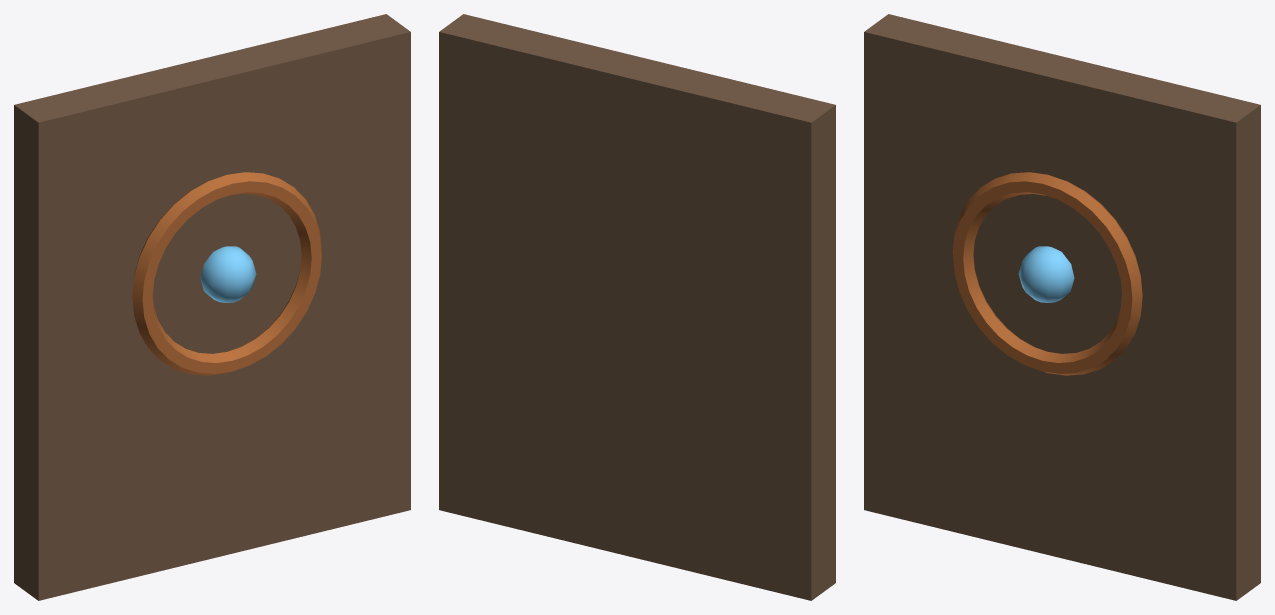
The model's file is lager_tor.obj.
3 views of the same model, side by side, from view 1: azimuth 30°, elevation 25°; view 2: azimuth 150°, elevation 25°; view 3: azimuth 330°, elevation 25° (orthographic).
Parts seen in each view (by area): view 1: Lager_Tor; view 2: Lager_Tor; view 3: Lager_Tor.
Part boxes in pixels (box(x1,y1,x2,y2)): Lager_Tor: box(14, 14, 410, 600); Lager_Tor: box(439, 14, 835, 600); Lager_Tor: box(864, 14, 1260, 600).
Bounding box in the file's own units: 4.4 × 5.4 × 0.85.
